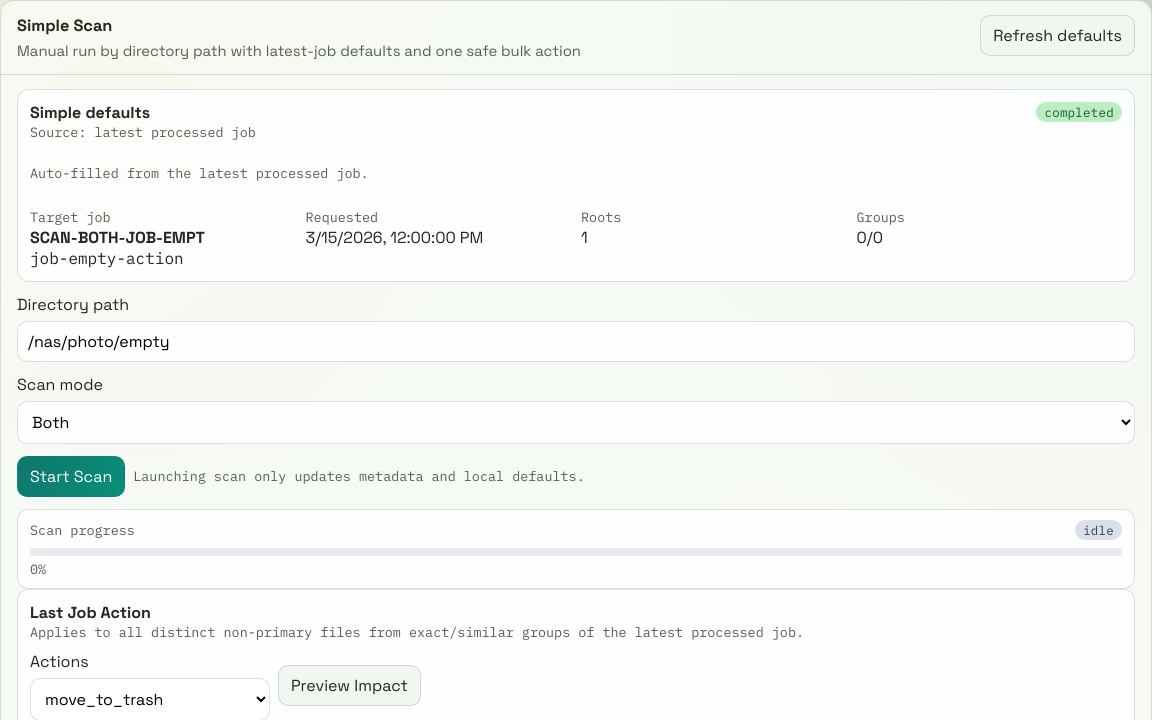
DashboardPage › shows zero-impact preview instead of error when latest processed job has no actionable files
The width and height of the screenshot is (1152, 720).
Expected: the element with test id "simple-defaults-card" is shown, [17,89,1135,282]
Click the button "Preview Impact": (349, 686) [278,665,421,706]
(page scrolled)
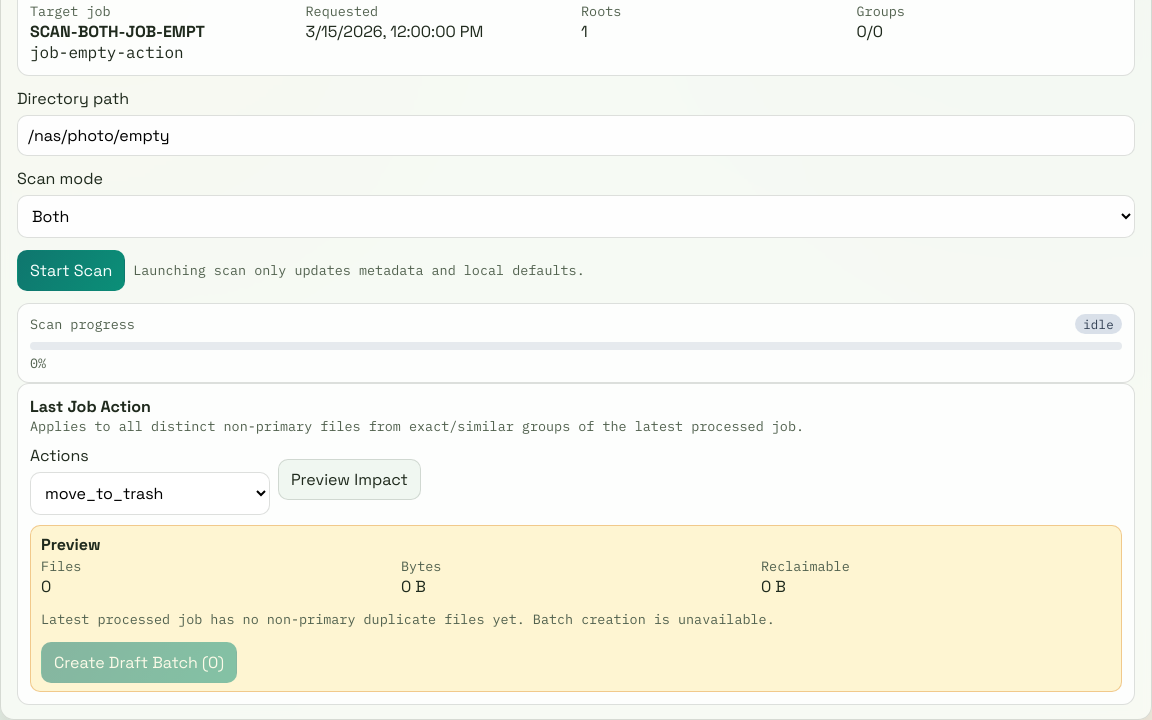
Expected: the element with test id "simple-action-preview" shows "0 B", [401,576,426,597]
Expected: the element with test id "simple-action-preview" shows "Latest processed job has no non-primary duplicate files yet.", [41,610,775,628]
Expected: the button "Create Draft Batch (0)" is disabled, [41,642,237,683]
